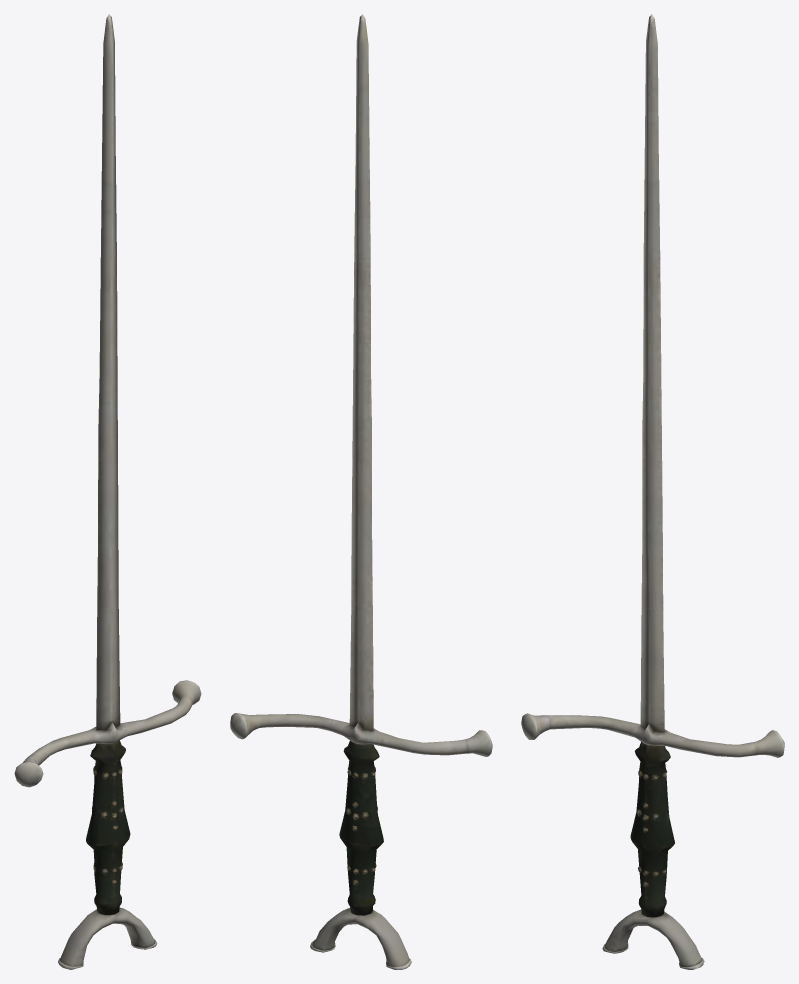
File: design-antique-estoc.glb
3 views of the same model, side by side, from view 1: azimuth 30°, elevation 25°; view 2: azimuth 150°, elevation 25°; view 3: azimuth 330°, elevation 25° (orthographic).
Parts seen in each view (by area): view 1: antique_estoc; view 2: antique_estoc; view 3: antique_estoc.
Part boxes in pixels (left/top/right/bottom): antique_estoc: left=14, top=14, right=201, bottom=969; antique_estoc: left=230, top=14, right=492, bottom=969; antique_estoc: left=521, top=14, right=784, bottom=969.
Bounding box in the file's own units: 0.3715 × 1.49 × 0.149.
1 material, 1 textured.
